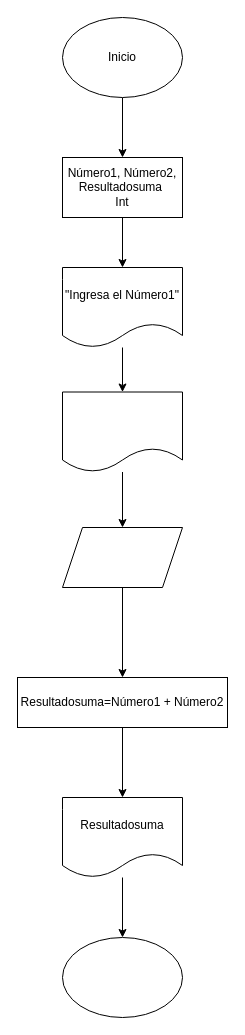
This 245x1035 diagram has some shape labels left out. The centre of each missing label's shape, as x and y in pixels:
"Ingresa el Número2": [122,431]
End: [122,977]
Número1, Número2: [122,557]
